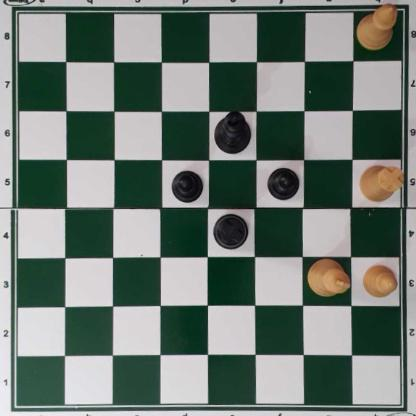black-king: (213, 111, 251, 155)
black-pawn: (170, 170, 204, 204), (267, 165, 299, 200)
black-rook: (214, 214, 248, 250)
white-bishop: (355, 1, 400, 49)
white-king: (305, 260, 351, 297)
white-pawn: (362, 264, 398, 297)
white-rook: (359, 164, 403, 201)
